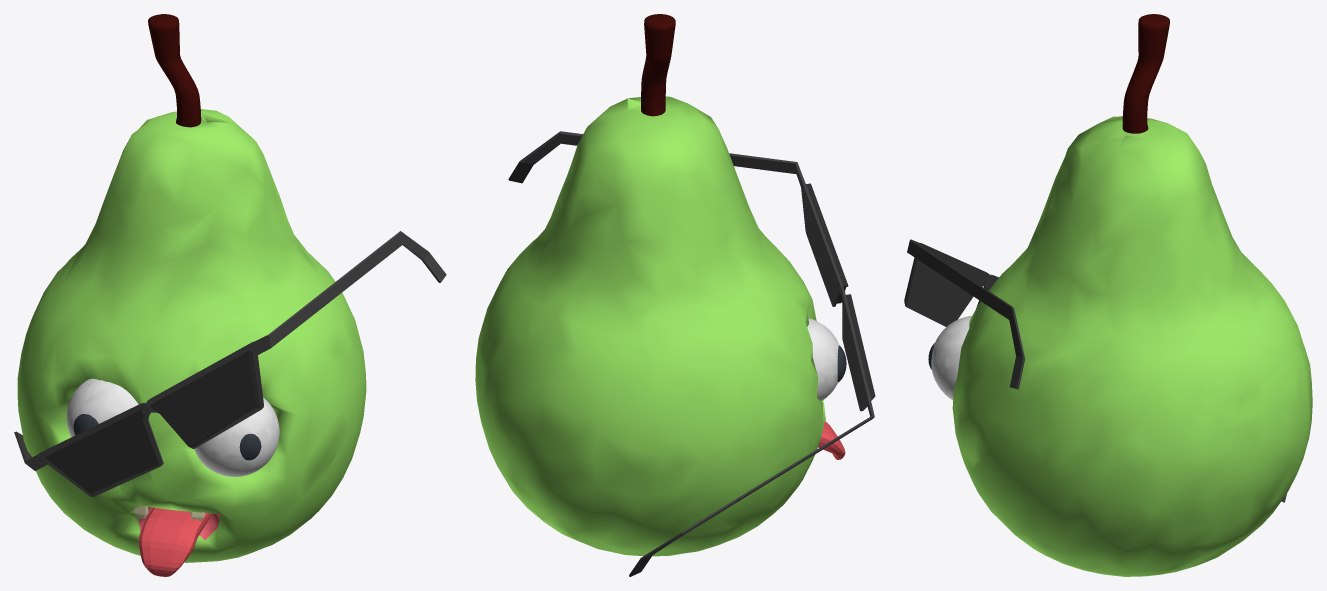
File: Poire.fbx
3 views of the same model, side by side, from view 1: azimuth 30°, elevation 25°; view 2: azimuth 150°, elevation 25°; view 3: azimuth 270°, elevation 25° (orthographic).
Visible parts, largest first — view 1: Poire; view 2: Poire; view 3: Poire.
Part boxes in pixels (x1,y1,x2,y2): Poire: [14, 14, 446, 576]; Poire: [475, 14, 875, 576]; Poire: [904, 14, 1312, 576].
Bounding box in the file's own units: 124 × 158 × 110.
